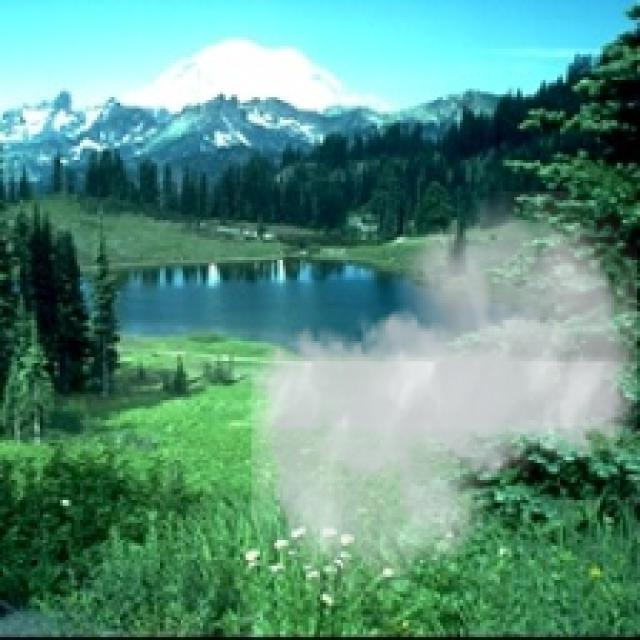Smoke: (252, 192, 637, 597)
